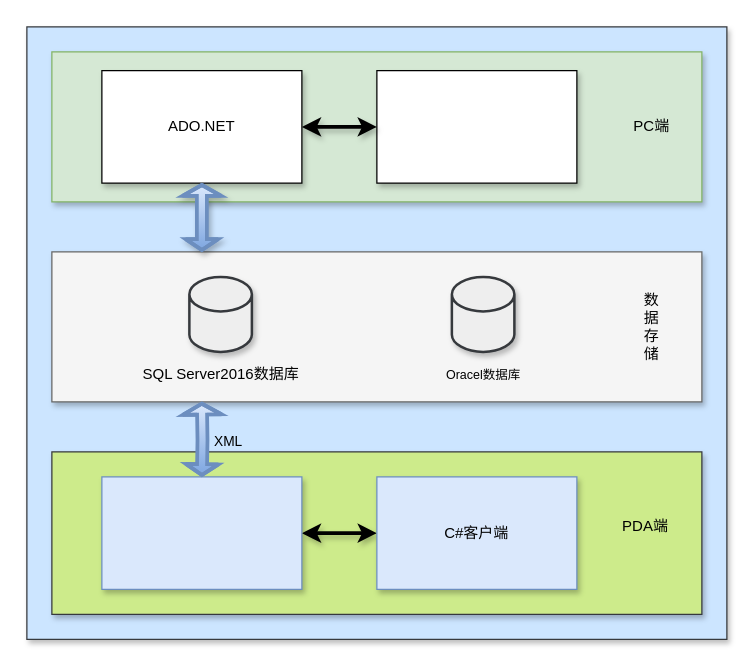
Image size: 756x670. Some labels were removed from this diagram. Here are the shapes that lost their labels. From the top down, the centre of each, then its label:
At pixel 477 128: "Winform窗体".
At pixel 202 534: "基于WebService的服务端".
